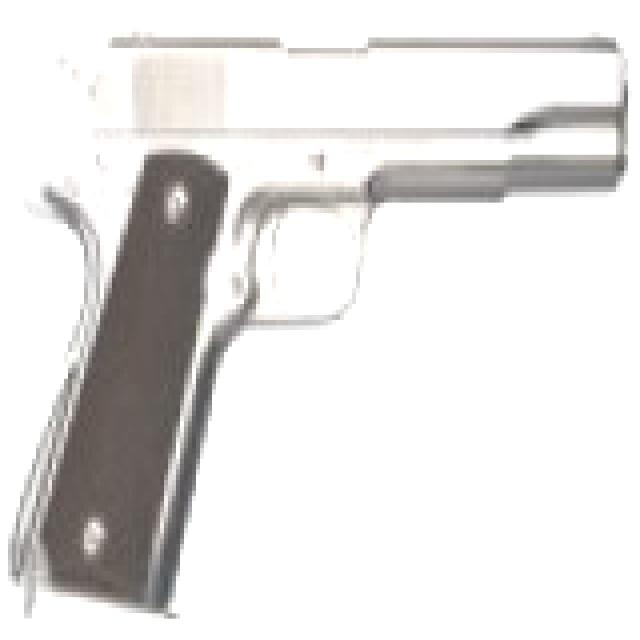handgun: (12, 6, 616, 624)
